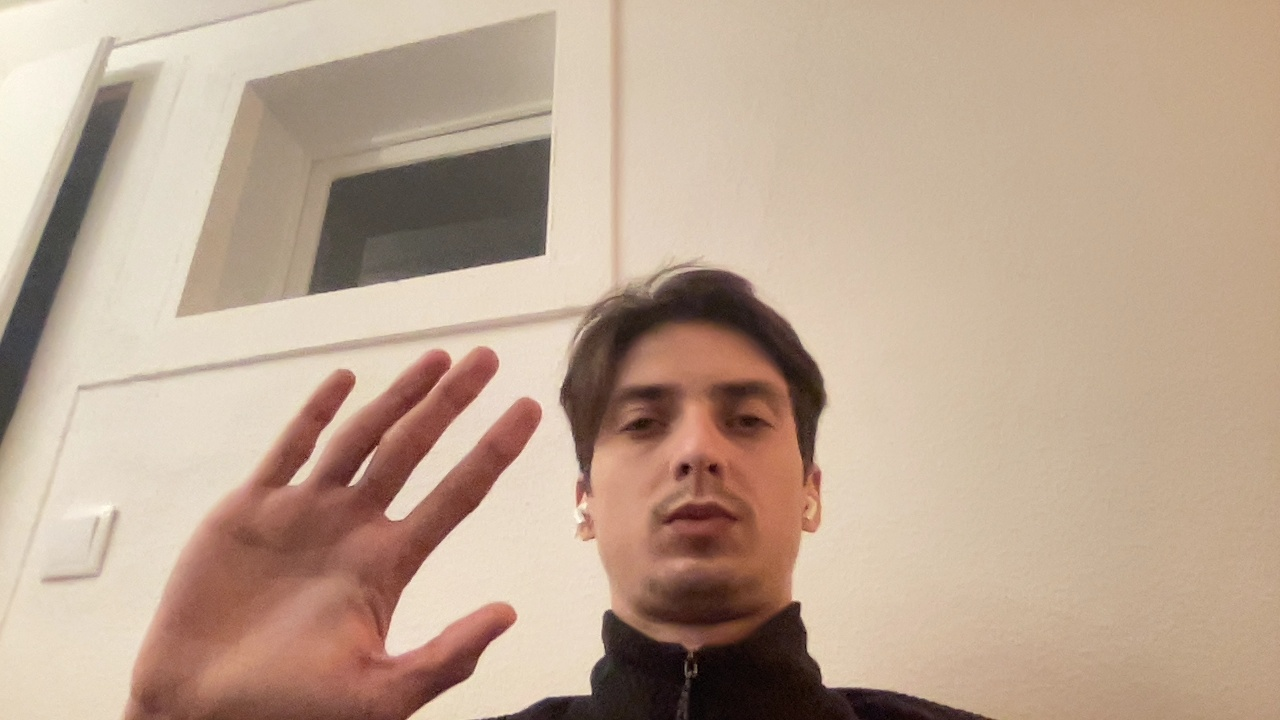Hello: (88, 250, 572, 720)
